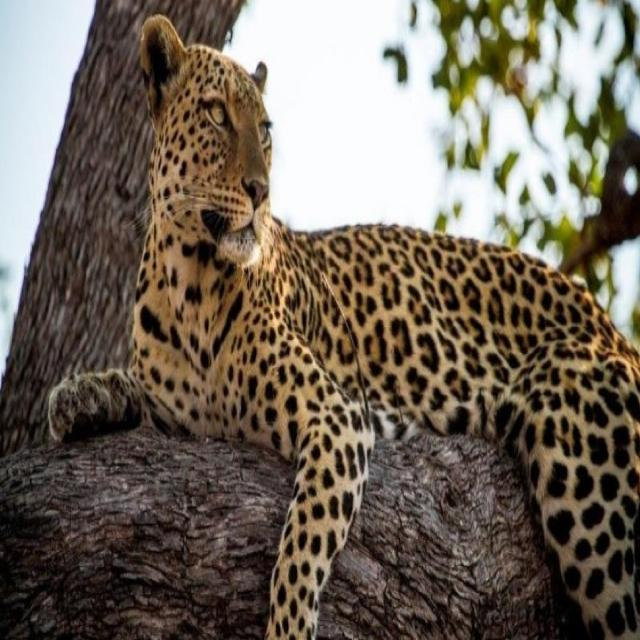Leopard: (49, 15, 640, 640)
